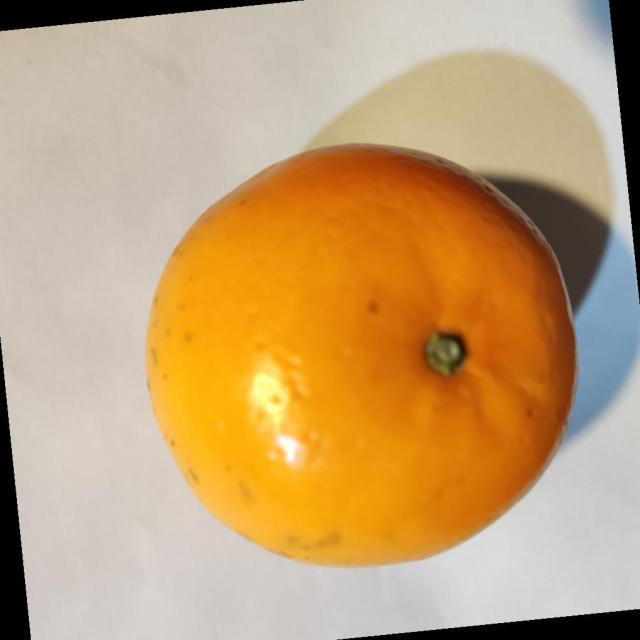fresh orange: (144, 140, 578, 568)
